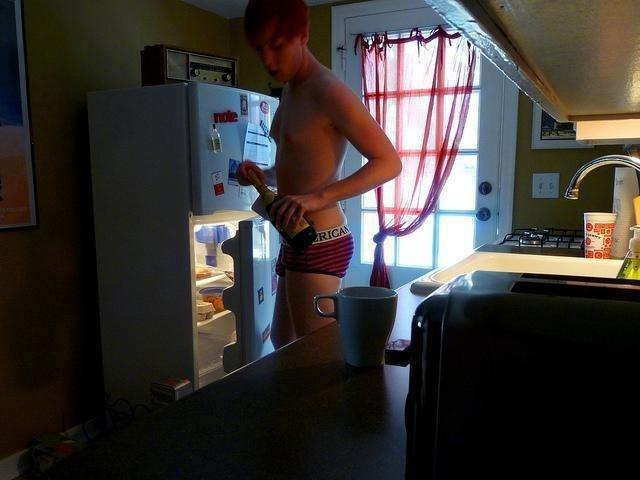bottle-glass: (243, 168, 321, 253)
cup-disposable: (584, 213, 618, 260)
cup-handle: (314, 284, 400, 370)
